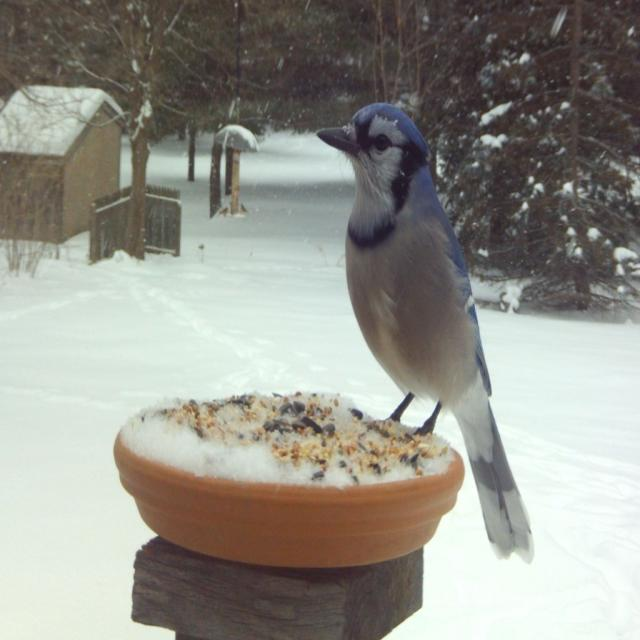bird: (316, 97, 538, 564)
